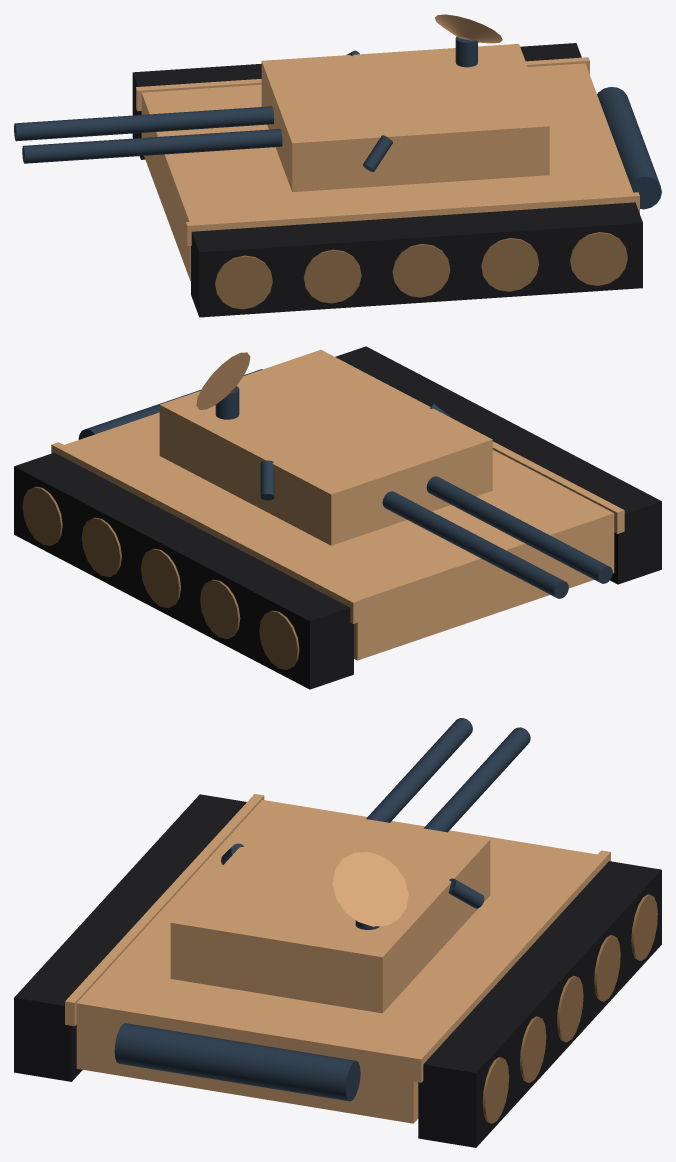
The model's file is turkish_altay_tank.glb.
The picture shows the model from 3 angles, top to bottom: view 1: azimuth 30°, elevation 25°; view 2: azimuth 150°, elevation 25°; view 3: azimuth 270°, elevation 25°; orthographic projection. The views are drawn at different scales.
Parts seen in each view (by area): view 1: ZeroHourYellowTank, turret, track_wheel (×5), weapon_barrel, sat_dish, radar_base; view 2: ZeroHourYellowTank, turret, track_wheel (×5), weapon_barrel, sat_dish, radar_base; view 3: ZeroHourYellowTank, turret, track_wheel (×5), weapon_barrel, sat_dish.
Part boxes in pixels (x1,y1,x2,y2): ZeroHourYellowTank: (132,43,661,317); turret: (261,44,549,192); track_wheel (×5): (215,232,627,309); weapon_barrel: (14,106,282,163); sat_dish: (435,14,502,43); radar_base: (455,36,477,67); ZeroHourYellowTank: (14,346,661,689); turret: (159,349,492,545); track_wheel (×5): (22,486,299,669); weapon_barrel: (382,476,612,598); sat_dish: (196,352,250,409); radar_base: (215,386,239,419); ZeroHourYellowTank: (14,794,661,1147); turret: (170,804,490,1013); track_wheel (×5): (482,894,657,1123); weapon_barrel: (366,718,530,832); sat_dish: (332,852,408,926).
Size of the model in its own units: 14.42 by 4.25 by 12.56.
